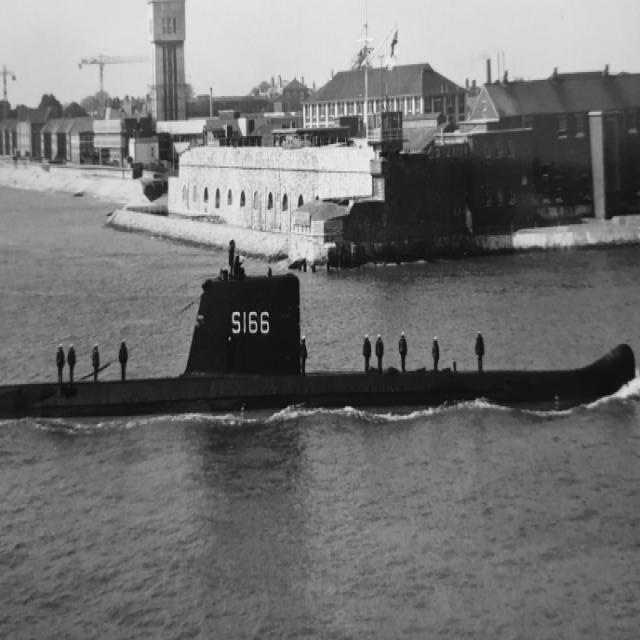submarine: (1, 276, 635, 412)
